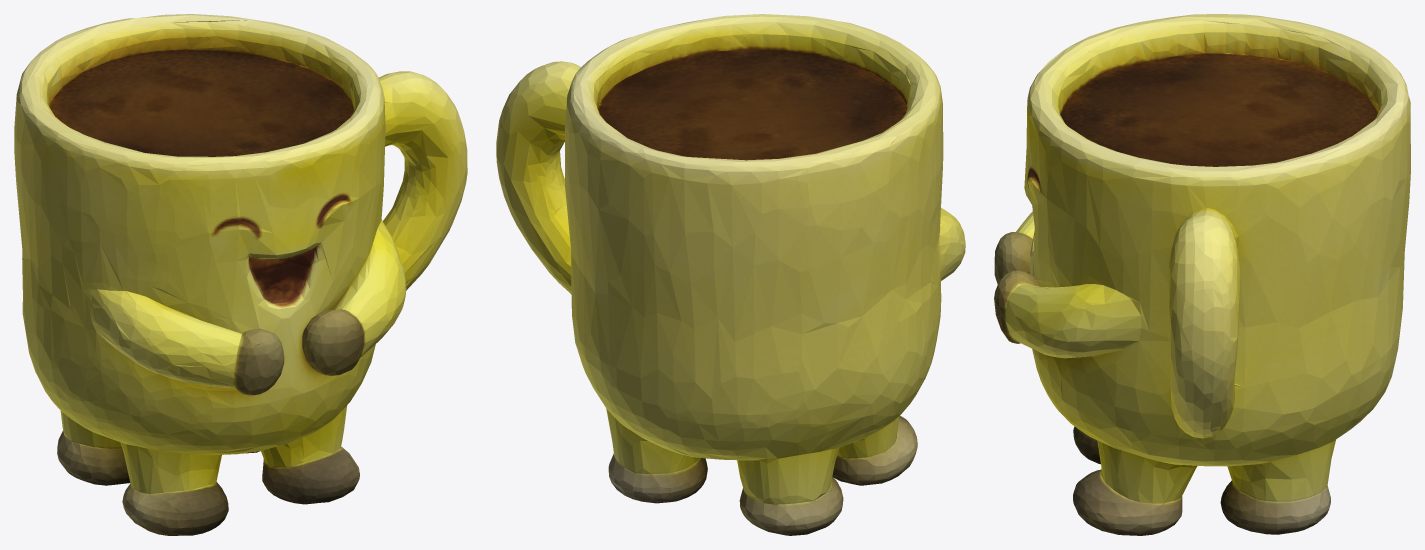
Rendered from tea-cup.glb.
The picture shows the model from 3 angles, left to right: view 1: azimuth 30°, elevation 25°; view 2: azimuth 150°, elevation 25°; view 3: azimuth 270°, elevation 25°; orthographic projection. The views are drawn at different scales.
Visible parts, largest first — view 1: geometry_0; view 2: geometry_0; view 3: geometry_0.
Part boxes in pixels (x1,y1,x2,y2): geometry_0: [14, 14, 467, 535]; geometry_0: [496, 14, 965, 535]; geometry_0: [994, 14, 1410, 535].
Bounding box in the file's own units: 0.0863 × 0.0779 × 0.0734.
1 material, 1 textured.
